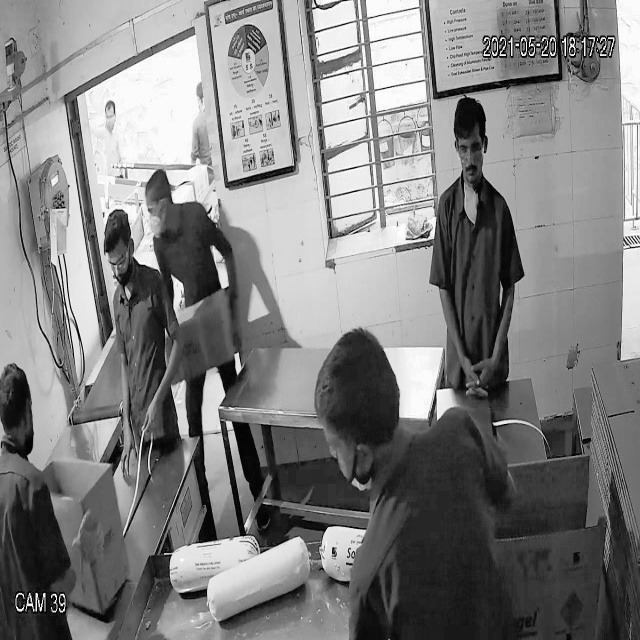Gafas: (449, 136, 494, 164), (105, 250, 131, 276)
